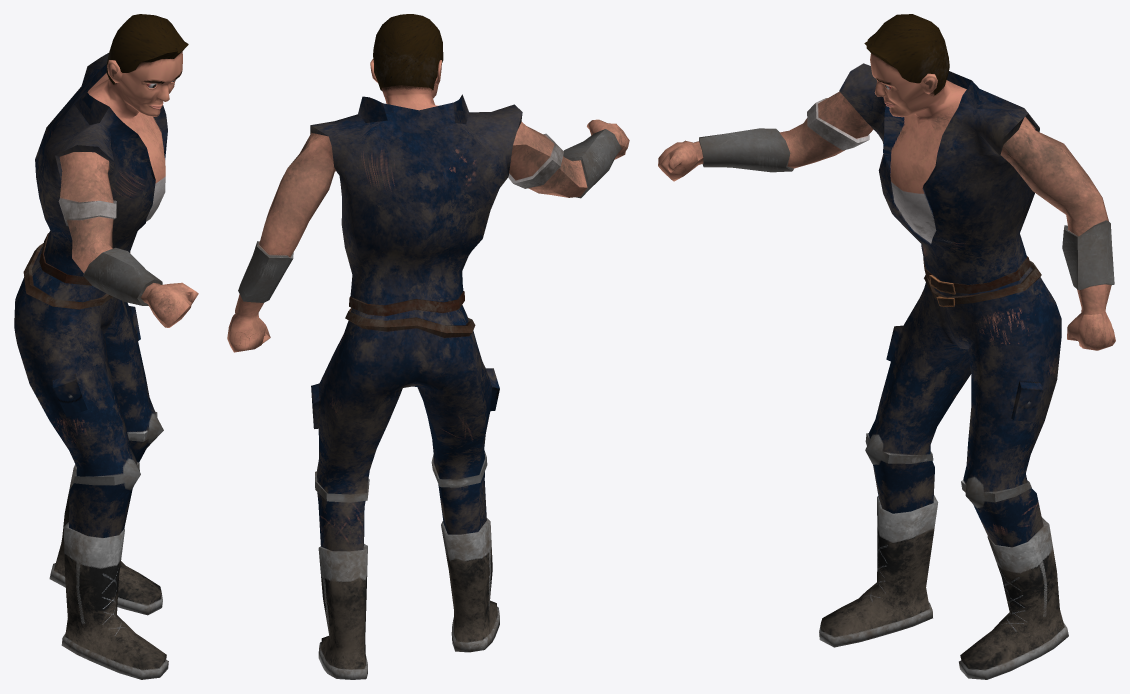
The model's file is Anim_puerta_mal_jugador.0025.obj.
3 views of the same model, side by side, from view 1: azimuth 30°, elevation 25°; view 2: azimuth 150°, elevation 25°; view 3: azimuth 270°, elevation 25° (orthographic). The views are drawn at different scales.
Visible parts, largest first — view 1: polySurface1; view 2: polySurface1; view 3: polySurface1.
Part boxes in pixels (<box>): polySurface1: <box>14,14,198,679</box>; polySurface1: <box>227,14,629,679</box>; polySurface1: <box>658,14,1115,679</box>.
Bounding box in the file's own units: 3.3 × 9.34 × 6.08.
